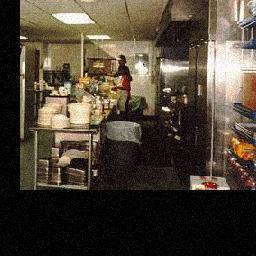Bote de Basura: (105, 123, 143, 176)
Electrodomestico: (186, 0, 238, 175)
